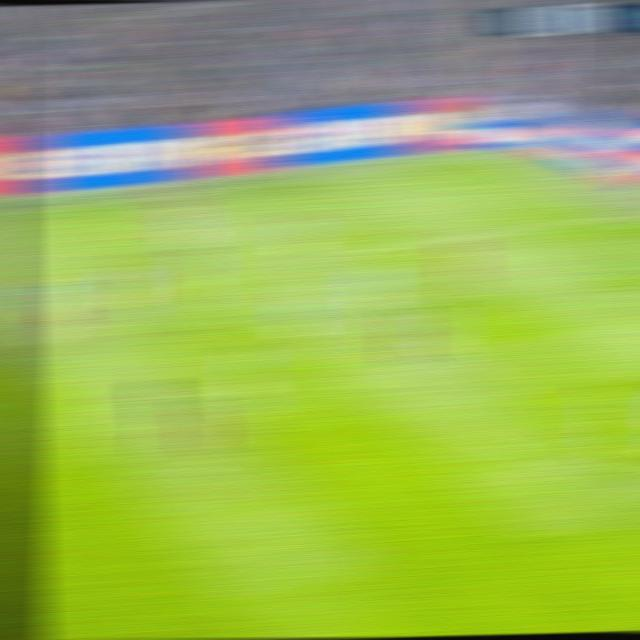bigarea_top_inner: (308, 248, 342, 264)
bigarea_top_outter: (594, 207, 629, 220)
bottom_arc_area_intersection: (576, 455, 630, 479)
corner: (471, 152, 505, 157)
smallarea_top_inner: (619, 286, 640, 301)
top_arc_area_intersection: (420, 333, 452, 347)
